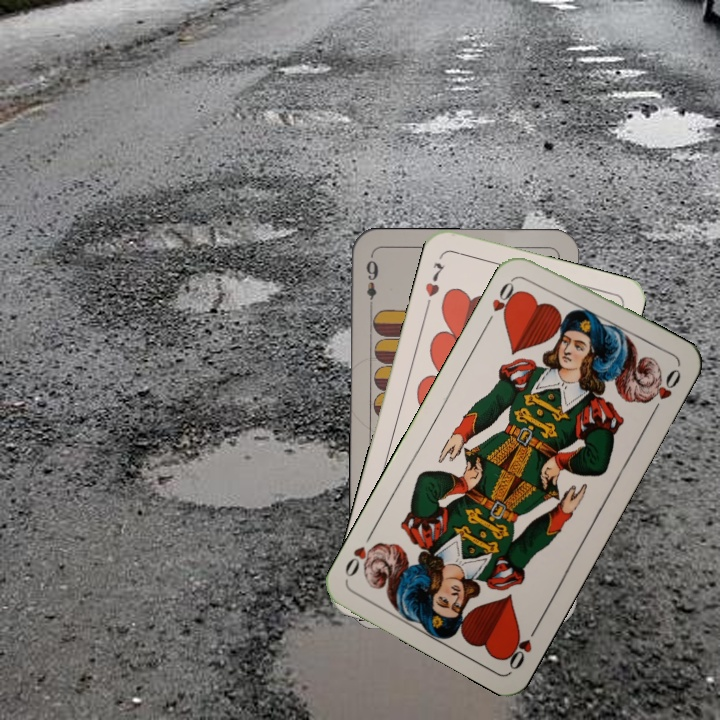E9: (362, 253, 381, 312)
H7: (421, 258, 447, 311)
HO: (500, 619, 543, 673), (482, 273, 523, 327)
